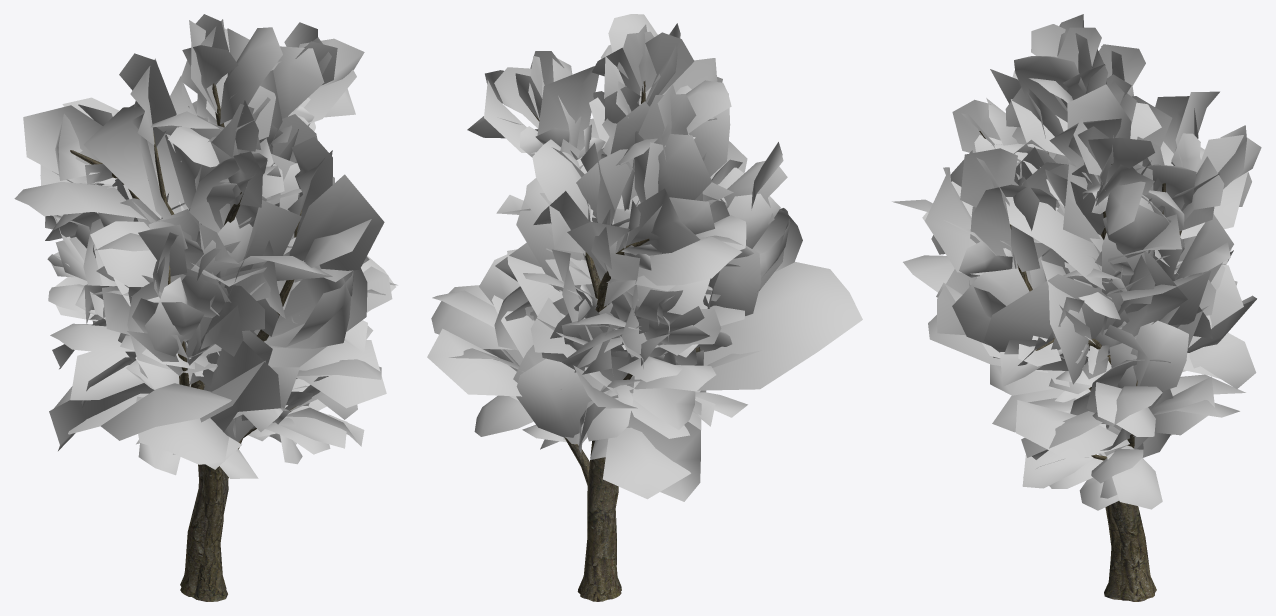
File: tree.obj
3 renders of one model, left to right at view 1: azimuth 30°, elevation 25°; view 2: azimuth 150°, elevation 25°; view 3: azimuth 270°, elevation 25°, orthographic. The views are drawn at different scales.
Parts seen in each view (by area): view 1: Foliage_Trees_02, Foliage_Trees_03, Foliage_Trees_01; view 2: Foliage_Trees_03, Foliage_Trees_02, Foliage_Trees_01; view 3: Foliage_Trees_03, Foliage_Trees_02, Foliage_Trees_01.
Part boxes in pixels (x1=…): Foliage_Trees_02: x1=45, y1=53, x2=384, y2=601; Foliage_Trees_03: x1=14, y1=14, x2=392, y2=596; Foliage_Trees_01: x1=47, y1=198, x2=397, y2=478; Foliage_Trees_03: x1=467, y1=14, x2=747, y2=601; Foliage_Trees_02: x1=495, y1=58, x2=862, y2=590; Foliage_Trees_01: x1=427, y1=182, x2=753, y2=501; Foliage_Trees_03: x1=922, y1=14, x2=1261, y2=601; Foliage_Trees_02: x1=892, y1=44, x2=1237, y2=599; Foliage_Trees_01: x1=1015, y1=249, x2=1256, y2=510.
Size of the model in its own units: 396 by 618 by 370.
